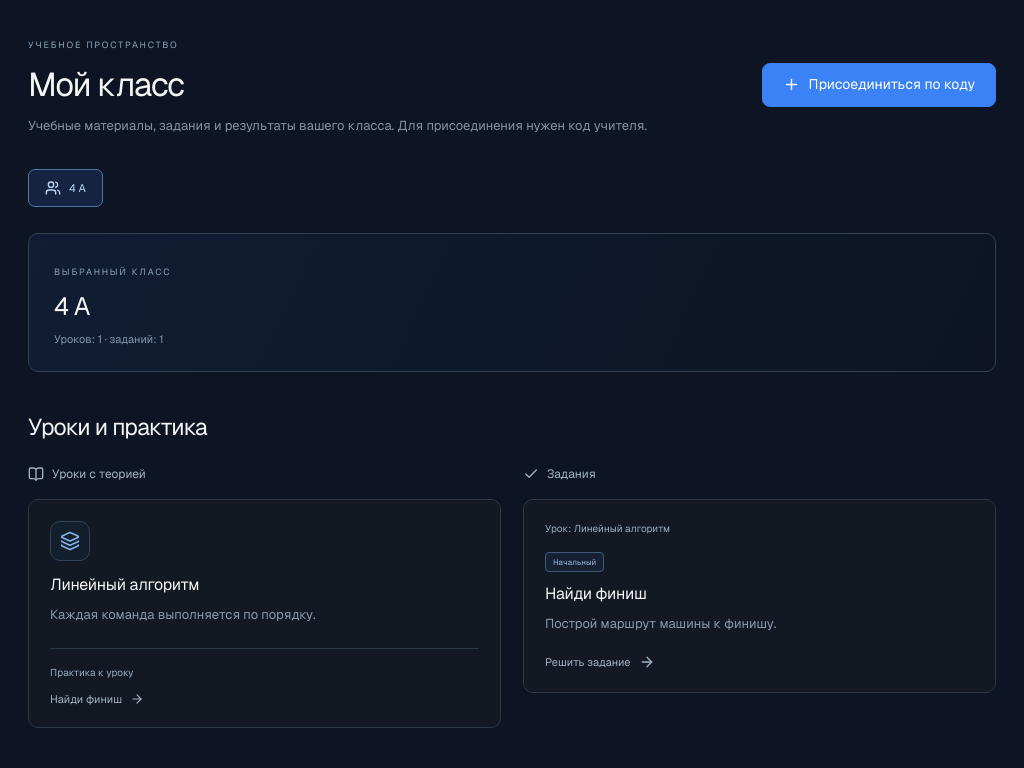
Classroom › shows invalid code feedback and lets a student join another class
Click the button "Присоединиться по коду" at (879, 85), box [762,63,996,107]
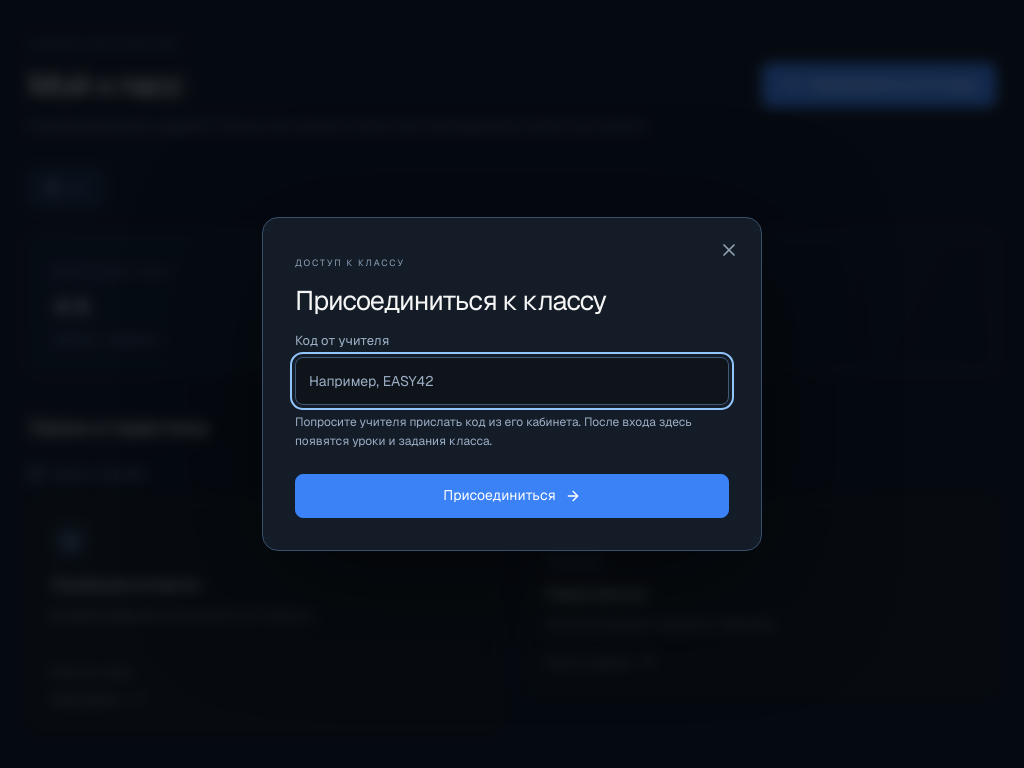
Type "NOPE" into the field at (512, 380), box [295,356,729,404]
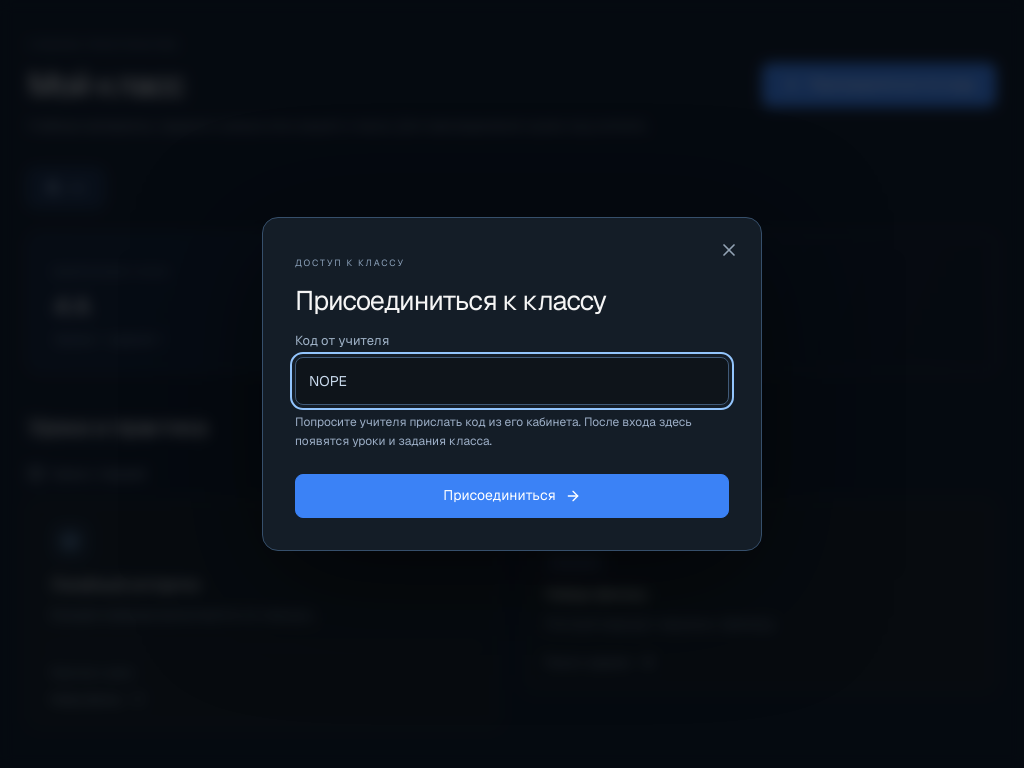
Submit the form, box [295,332,729,518]
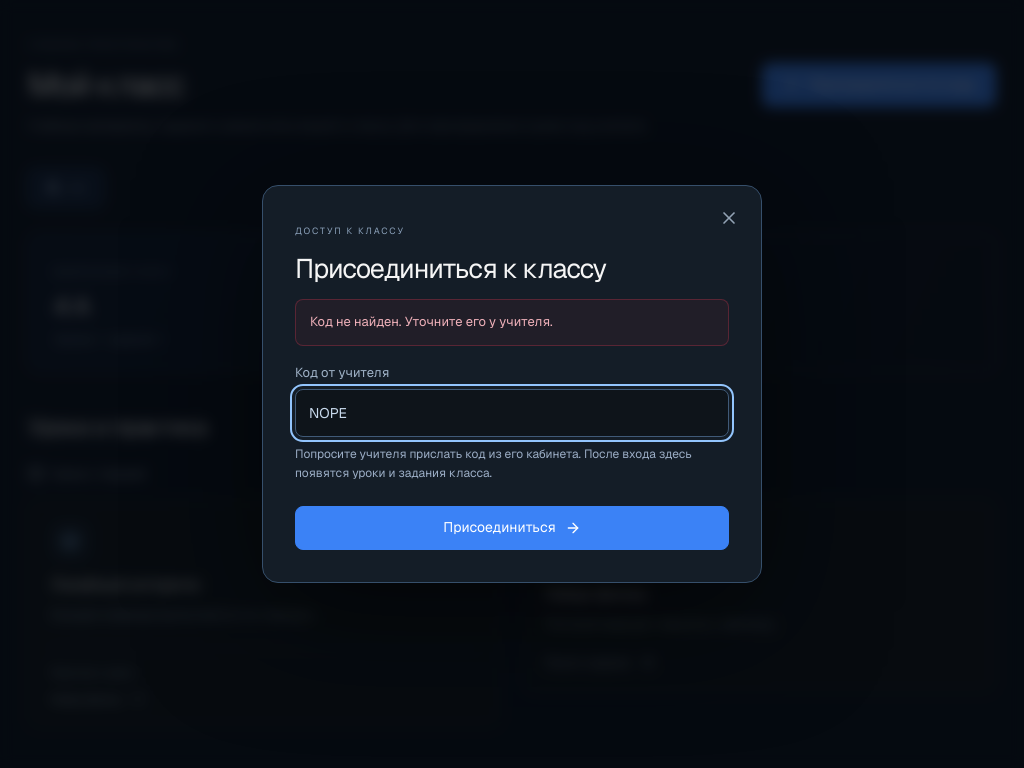
expect the message "Код не найден. Уточните его у учителя." is shown: met, box [295,299,729,346]
Replace the text in the field with " easy43 " at (512, 413), box [295,389,729,437]
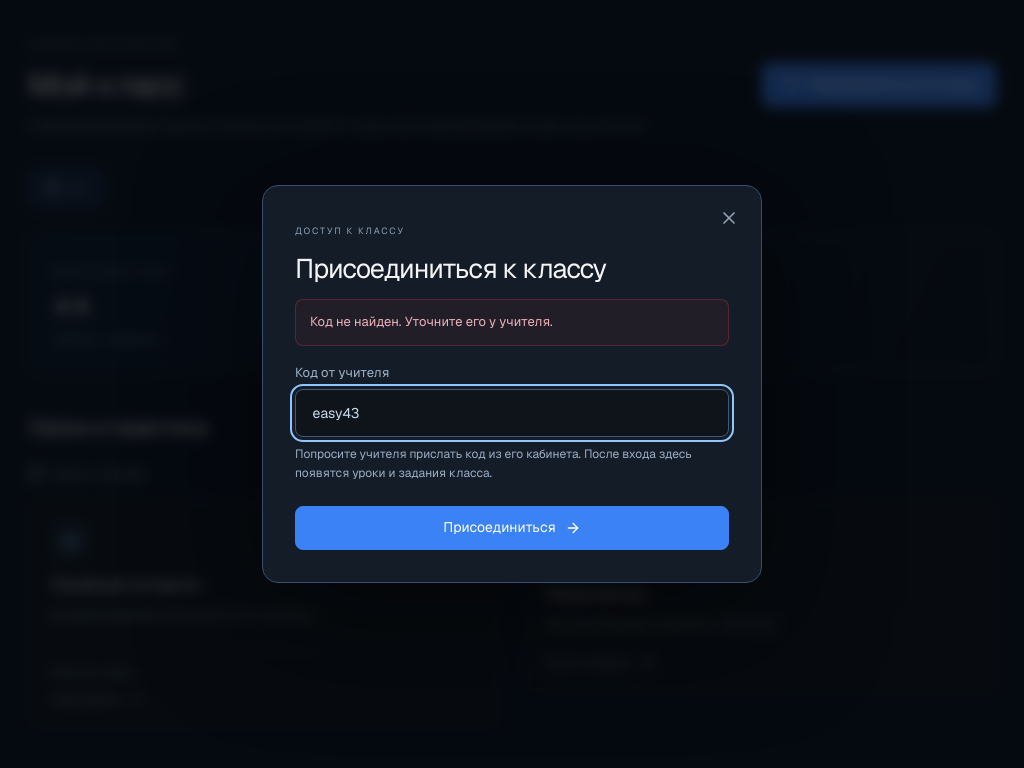
Submit the form, box [295,299,729,550]
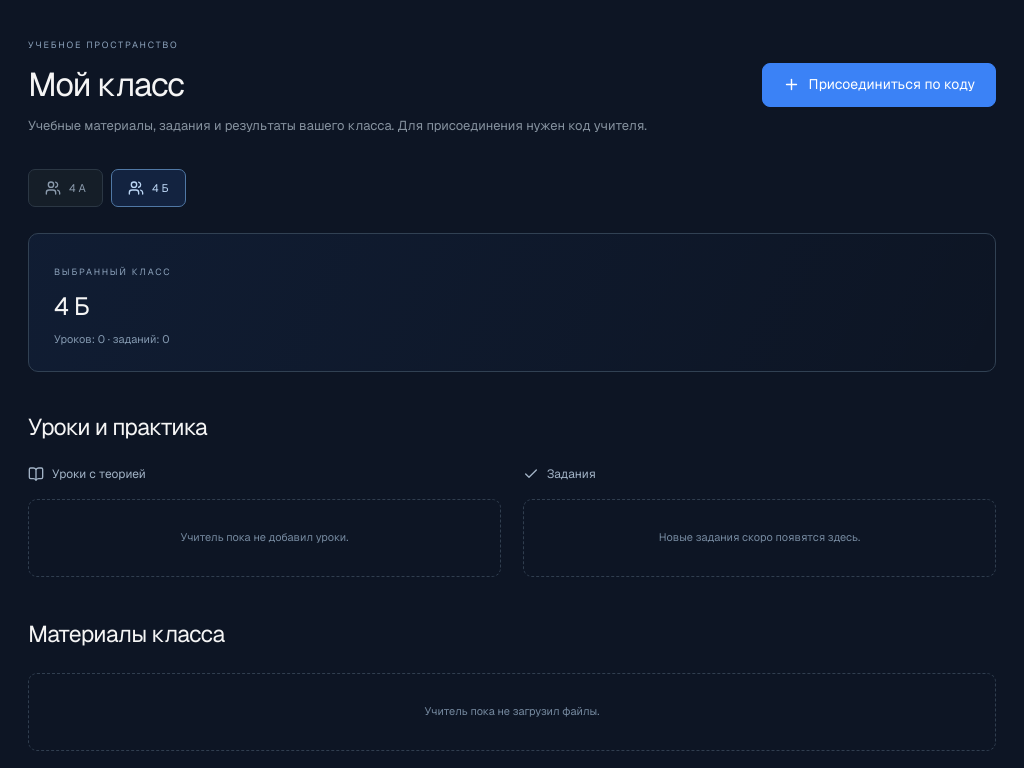
expect the dialog is gone: met
expect the element with class "class-overview" shows "4 Б": met, box [54,290,89,322]
